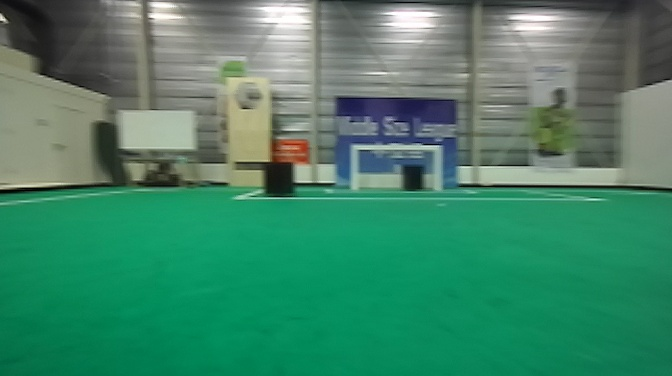goalpost: (432, 142, 444, 191), (349, 144, 361, 189)
